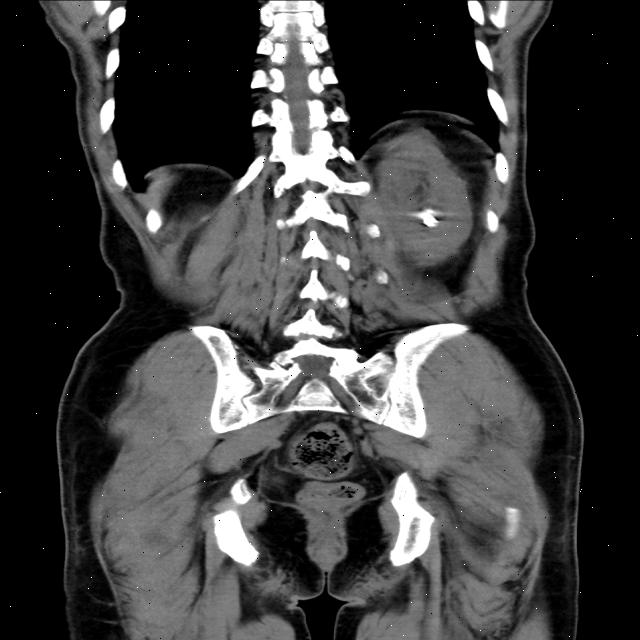kidneystone: (417, 210, 439, 228)
